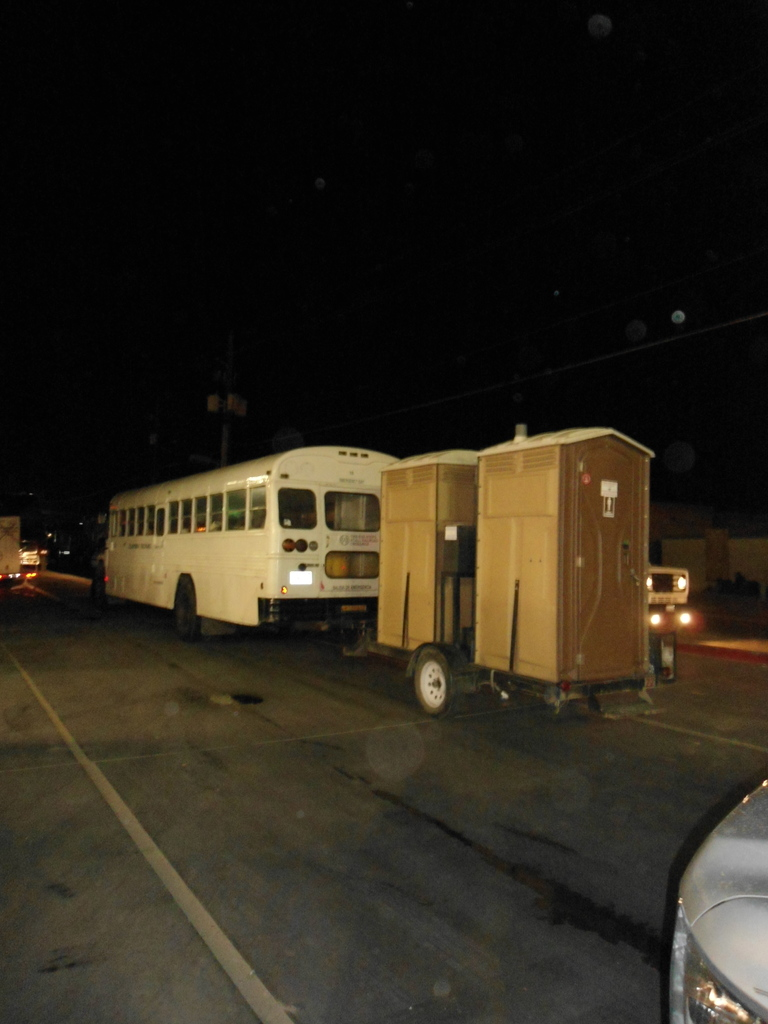Bus: (106, 437, 397, 635)
